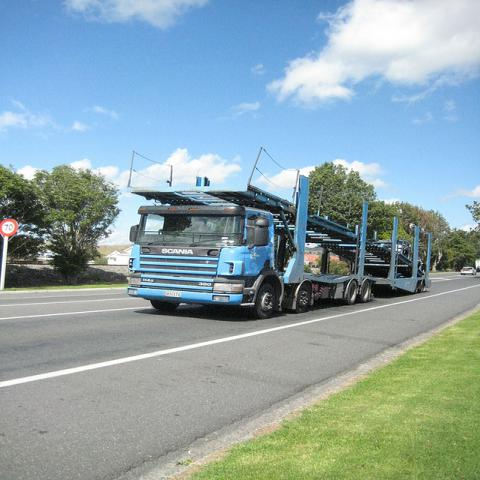car: (461, 267, 477, 275)
truck: (126, 151, 433, 321)
